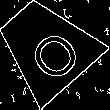O_NW: (12, 14, 79, 80)
